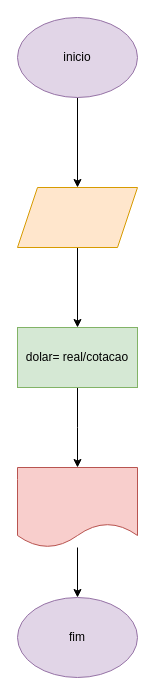
Some shapes in this 155 by 695 pixel diagram are drawn without their labels. The centre of each missing label's shape, as x and y in pixels:
"real virando dolar" goes at point 77,507.
"real, dolar, cotacao" goes at point 77,217.
